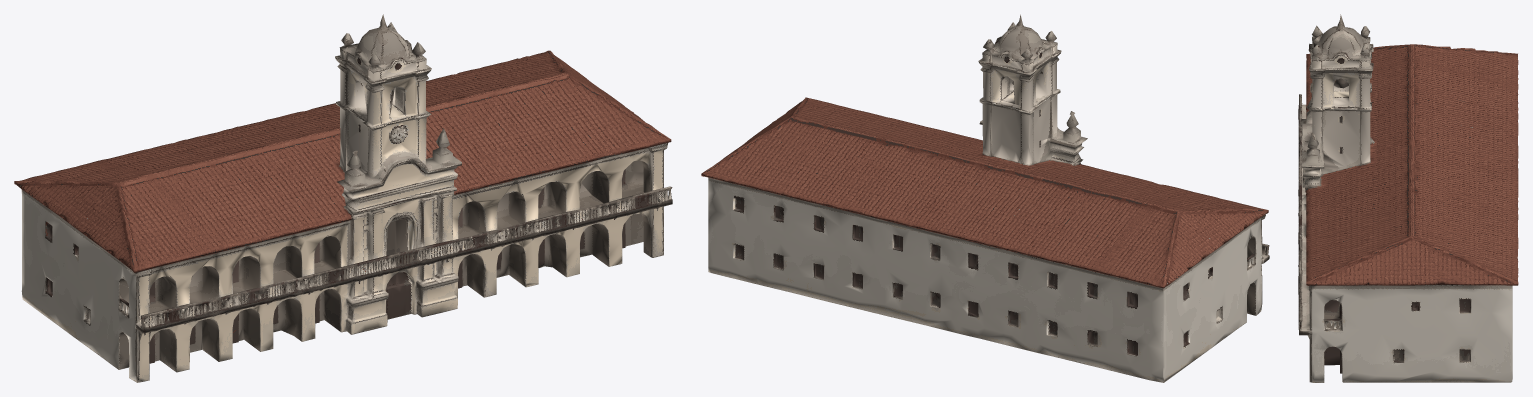
The model's file is cabildo.glb.
3 views of the same model, side by side, from view 1: azimuth 30°, elevation 25°; view 2: azimuth 150°, elevation 25°; view 3: azimuth 270°, elevation 25° (orthographic). The views are drawn at different scales.
Visible parts, largest first — view 1: tripo_node_ab84d48d-0f56-47e6-a375-bfa078954bc6; view 2: tripo_node_ab84d48d-0f56-47e6-a375-bfa078954bc6; view 3: tripo_node_ab84d48d-0f56-47e6-a375-bfa078954bc6.
Part boxes in pixels (bbox=[...]): tripo_node_ab84d48d-0f56-47e6-a375-bfa078954bc6: bbox=[14, 14, 672, 382]; tripo_node_ab84d48d-0f56-47e6-a375-bfa078954bc6: bbox=[701, 14, 1269, 382]; tripo_node_ab84d48d-0f56-47e6-a375-bfa078954bc6: bbox=[1298, 14, 1518, 382].
Bounding box in the file's own units: 1.92 × 1 × 0.7781.
Materials: 1 (1 with a texture image).
